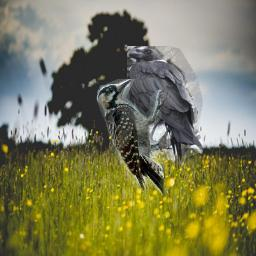Crow: (127, 46, 203, 165)
Woodpecker: (96, 79, 170, 197)
